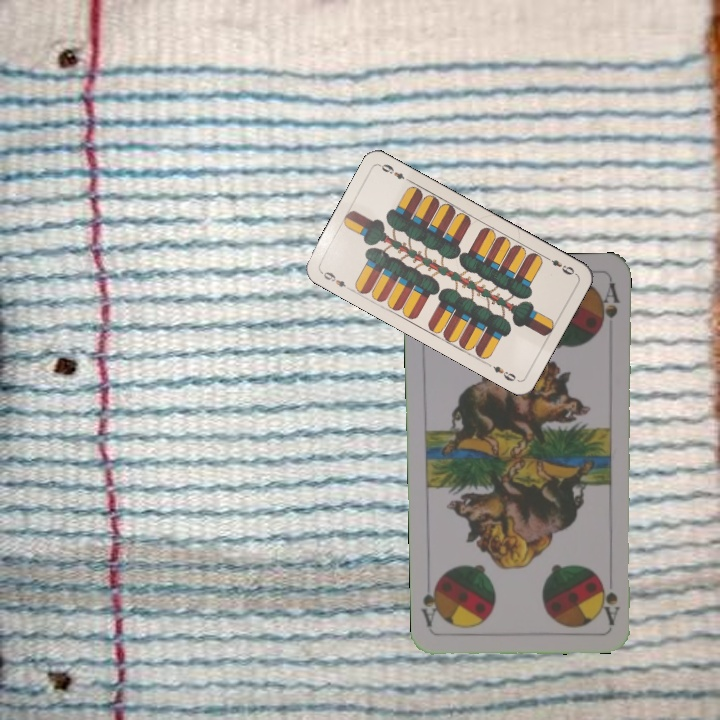E9: (317, 267, 354, 293), (541, 252, 577, 278)
SA: (603, 587, 622, 627)
